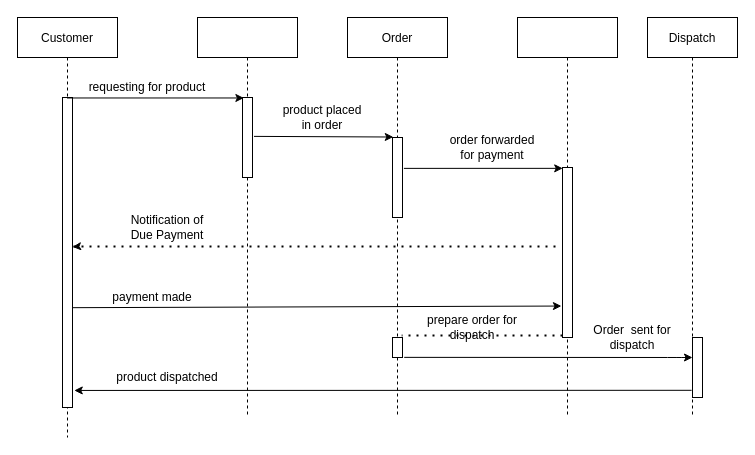
This 755x455 diagram has some shape labels left out. The shapes that lost their labels are listed below. From the top down, each one's box as (x1, y1, x2, y2) in pixels, then its label:
(196, 16, 298, 418): Product
(516, 16, 618, 418): payment
